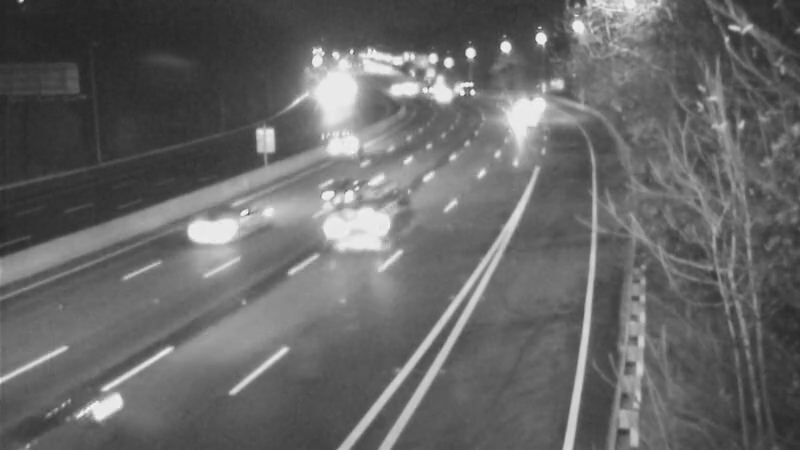vehicle: (1, 354, 105, 450), (300, 155, 380, 235), (318, 190, 398, 270), (167, 187, 247, 267), (499, 82, 549, 132), (499, 98, 549, 148), (324, 125, 374, 175)
